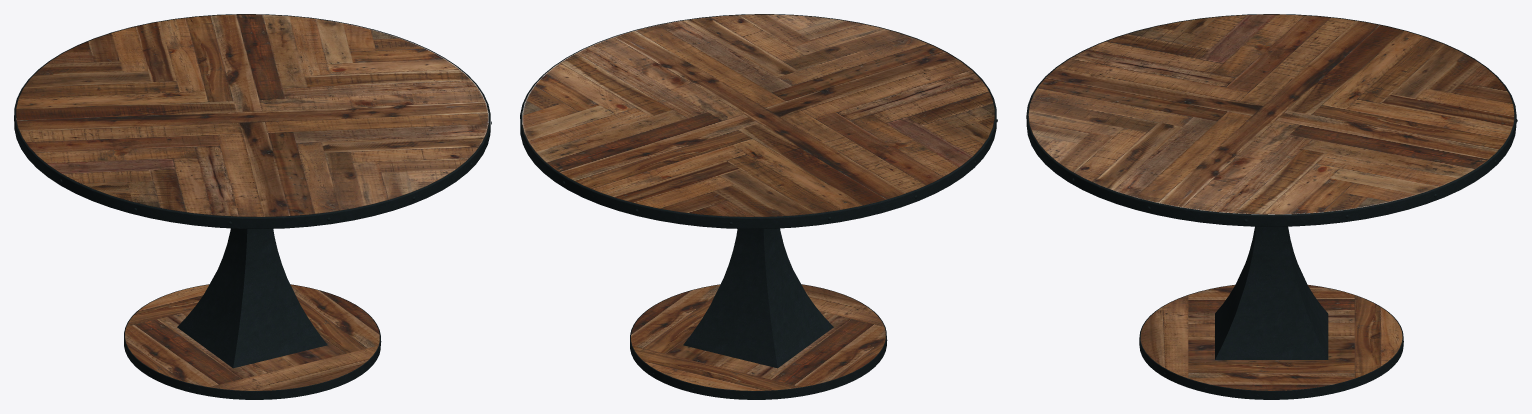
The model's file is example32.glb.
3 views of the same model, side by side, from view 1: azimuth 30°, elevation 25°; view 2: azimuth 150°, elevation 25°; view 3: azimuth 270°, elevation 25° (orthographic).
Visible parts, largest first — view 1: A482.wood, A482.metal; view 2: A482.wood, A482.metal; view 3: A482.wood, A482.metal.
Boxes of the visible parts, left/top/right/bottom form: A482.wood: left=16, top=14, right=488, bottom=390; A482.metal: left=14, top=14, right=491, bottom=399; A482.wood: left=522, top=14, right=994, bottom=390; A482.metal: left=520, top=14, right=997, bottom=399; A482.wood: left=1028, top=14, right=1514, bottom=390; A482.metal: left=1026, top=14, right=1517, bottom=399.
Bounding box in the file's own units: 0.8865 × 0.4731 × 0.9114.
Materials: 2 (2 with a texture image).
